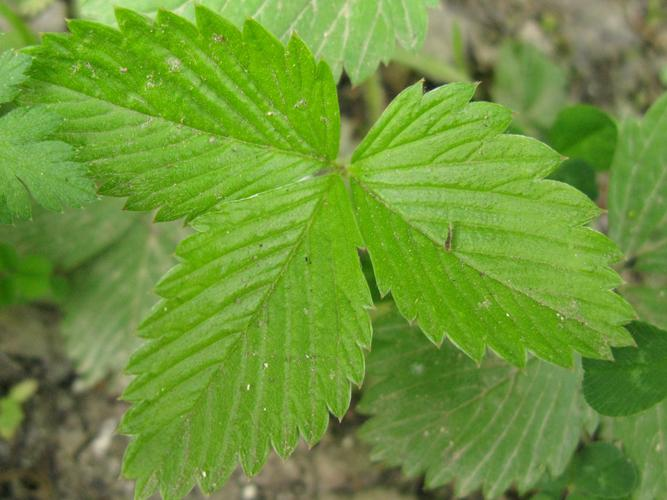Strawberry leaf: (353, 75, 639, 376), (111, 173, 369, 496), (24, 2, 344, 220)
